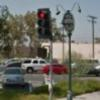traffic lights: (38, 8, 52, 41)
